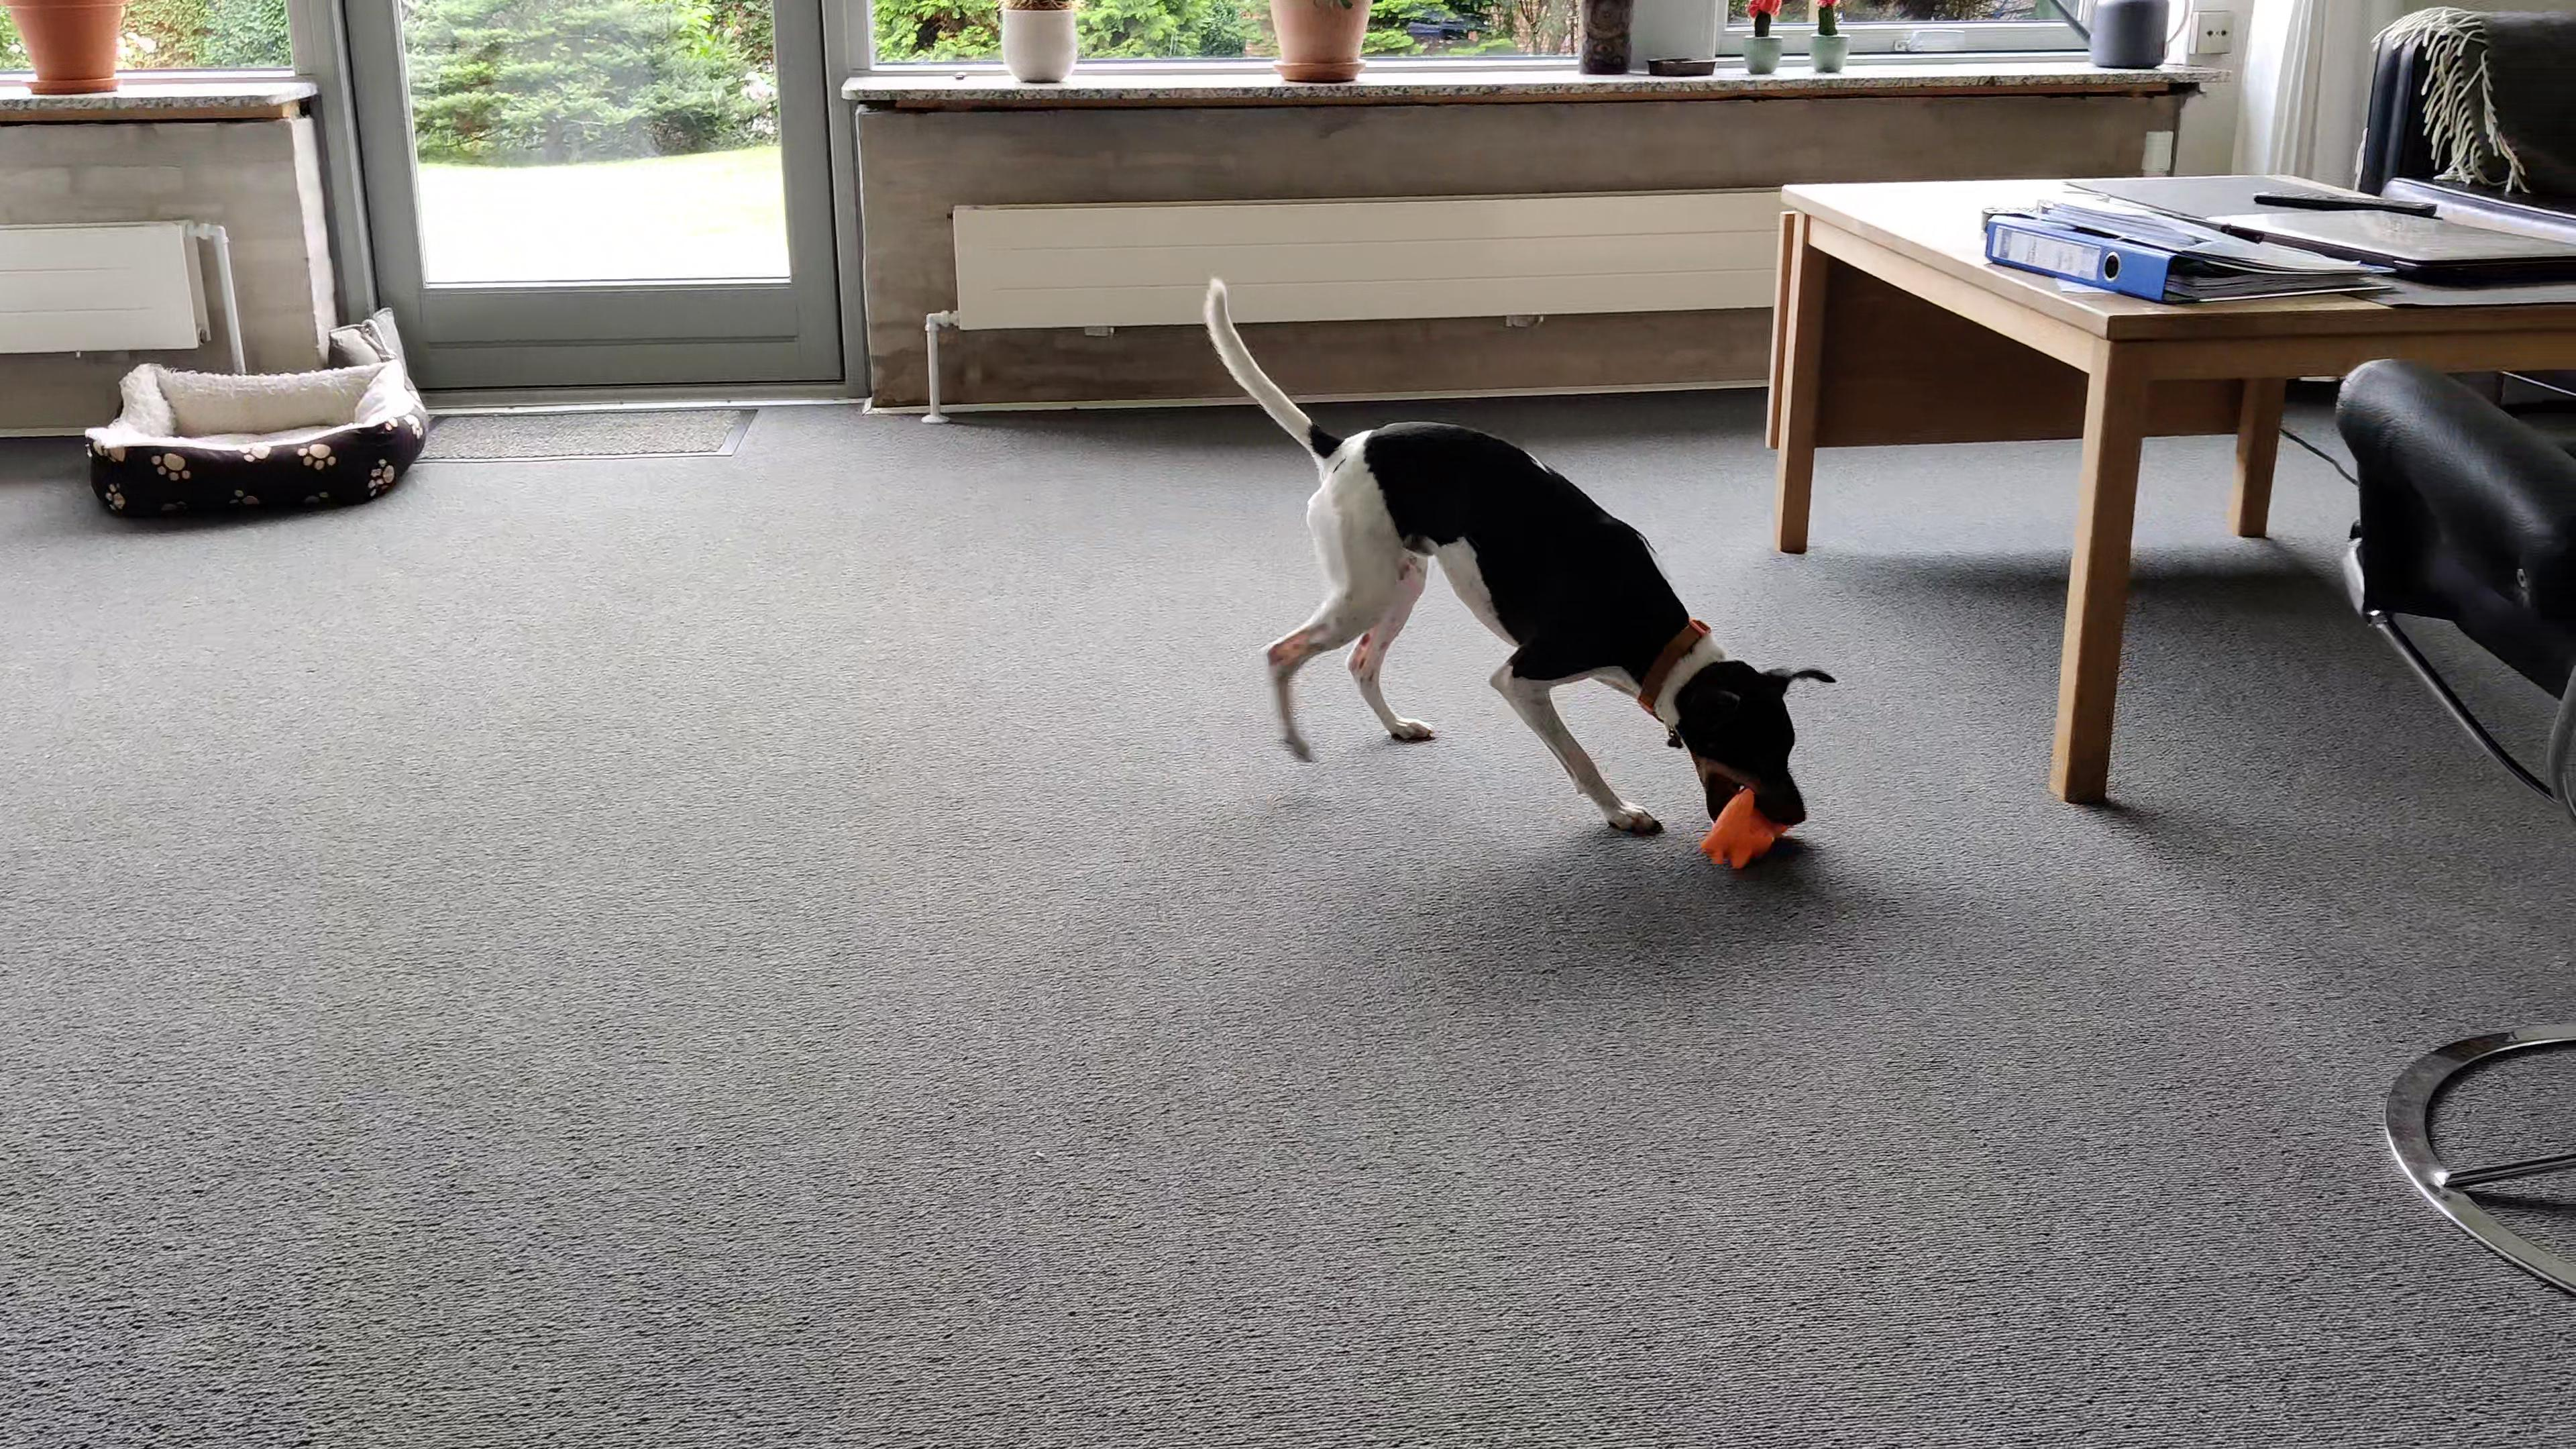Dog: (1185, 265, 1840, 847)
